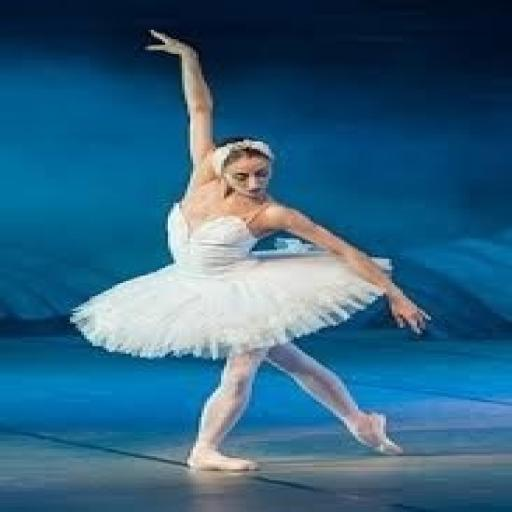dancing: (67, 26, 437, 475)
